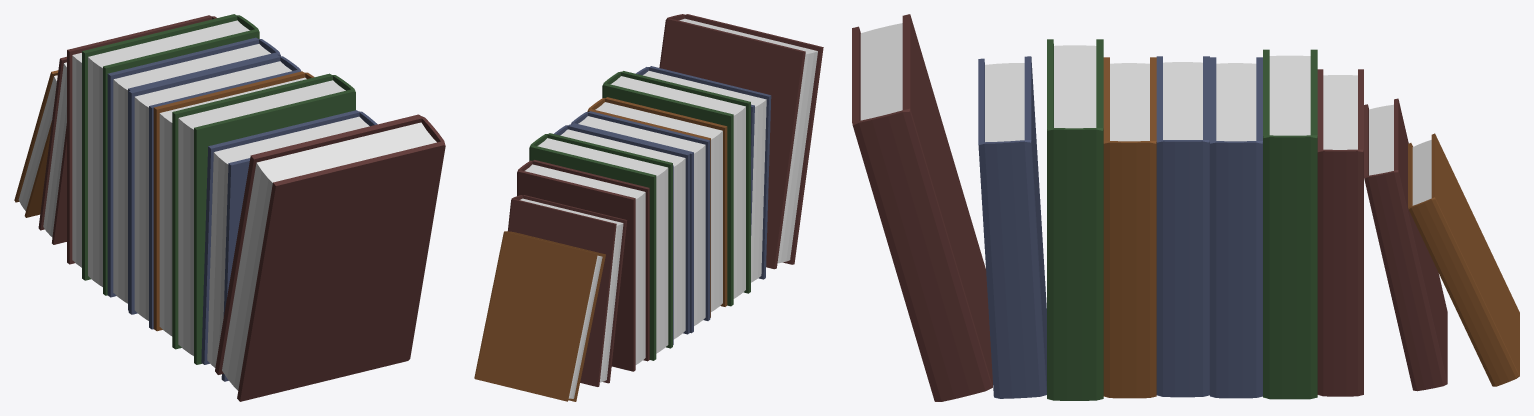
Rendered from VJ_L_PackLlibres_02.fbx.
3 views of the same model, side by side, from view 1: azimuth 30°, elevation 25°; view 2: azimuth 150°, elevation 25°; view 3: azimuth 270°, elevation 25° (orthographic). The views are drawn at different scales.
Parts seen in each view (by area): view 1: L_PackLlibres_02; view 2: L_PackLlibres_02; view 3: L_PackLlibres_02.
Boxes of the visible parts, bbox=[...] form: L_PackLlibres_02: bbox=[14, 14, 445, 401]; L_PackLlibres_02: bbox=[474, 14, 823, 401]; L_PackLlibres_02: bbox=[852, 14, 1519, 401].
Bounding box in the file's own units: 3.79 × 5.39 × 11.07.
